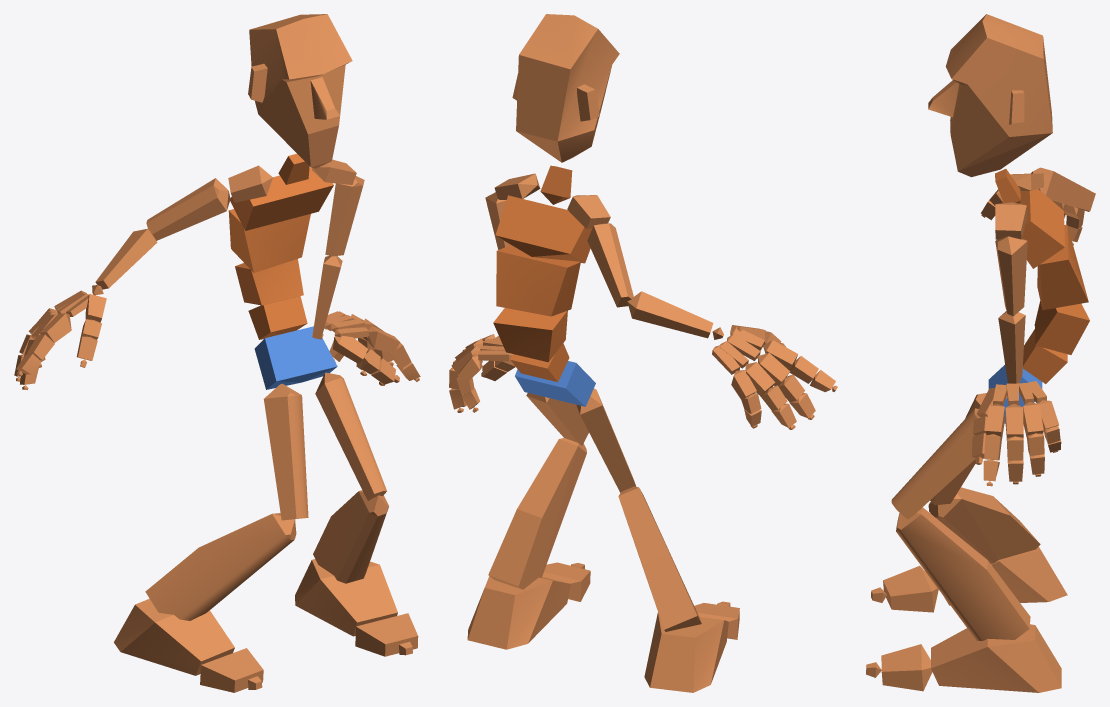
3 renders of one model, left to right at view 1: azimuth 30°, elevation 25°; view 2: azimuth 150°, elevation 25°; view 3: azimuth 270°, elevation 25°, orthographic. The views are drawn at different scales.
Parts seen in each view (by area): view 1: BOPED_Head, BOPED_R_leg, BOPED_R_foot, BOPED_R_foot01, BOPED_R_legup, BOPED_L_leg, BOPED_L_legup, Bone01, Bone04, Bone05, BOPED_R_arm_upper, Bone03 (+10 smaller); view 2: BOPED_Head, BOPED_L_leg, BOPED_R_foot01, BOPED_R_foot, BOPED_R_leg, Bone04, Bone05, Bone03, BOPED_R_legup, BOPED_R_arm_upper, BOPED_R_arm_fore, Bone01 (+8 smaller); view 3: BOPED_Head, BOPED_L_leg, BOPED_R_foot01, BOPED_R_leg, BOPED_L_legup, BOPED_R_foot, Bone05, Bone04, Bone03, BOPED_L_arm_upper, BOPED_R_foot_toe01, BOPED_R_foot_toe04 (+15 smaller).
Part boxes in pixels (x1,y1,x2,y2): BOPED_Head: [248, 14, 352, 168]; BOPED_R_leg: [145, 513, 296, 620]; BOPED_R_foot: [114, 598, 234, 675]; BOPED_R_foot01: [295, 559, 397, 636]; BOPED_R_legup: [263, 383, 308, 520]; BOPED_L_leg: [313, 490, 388, 583]; BOPED_L_legup: [315, 372, 386, 500]; Bone01: [254, 326, 337, 389]; Bone04: [228, 209, 310, 272]; Bone05: [230, 167, 333, 230]; BOPED_R_arm_upper: [146, 178, 230, 240]; Bone03: [235, 259, 303, 305]; BOPED_Head: [512, 14, 619, 162]; BOPED_L_leg: [488, 438, 586, 589]; BOPED_R_foot01: [467, 576, 570, 649]; BOPED_R_foot: [644, 612, 728, 692]; BOPED_R_leg: [618, 486, 701, 631]; Bone04: [496, 245, 580, 316]; Bone05: [495, 195, 592, 263]; Bone03: [493, 308, 567, 362]; BOPED_R_legup: [576, 388, 636, 492]; BOPED_R_arm_upper: [587, 223, 633, 307]; BOPED_R_arm_fore: [627, 291, 713, 338]; Bone01: [515, 361, 595, 406]; BOPED_Head: [928, 14, 1052, 177]; BOPED_L_leg: [896, 507, 1030, 640]; BOPED_R_foot01: [931, 624, 1061, 692]; BOPED_R_leg: [928, 487, 1040, 563]; BOPED_L_legup: [891, 408, 980, 519]; BOPED_R_foot: [944, 546, 1067, 605]; Bone05: [1019, 189, 1064, 268]; Bone04: [1037, 224, 1088, 310]; Bone03: [1034, 301, 1089, 354]; BOPED_L_arm_upper: [995, 236, 1027, 316]; BOPED_R_foot_toe01: [883, 565, 938, 612]; BOPED_R_foot_toe04: [881, 644, 932, 691].
Size of the model in its own units: 118 by 176 by 57.96.
